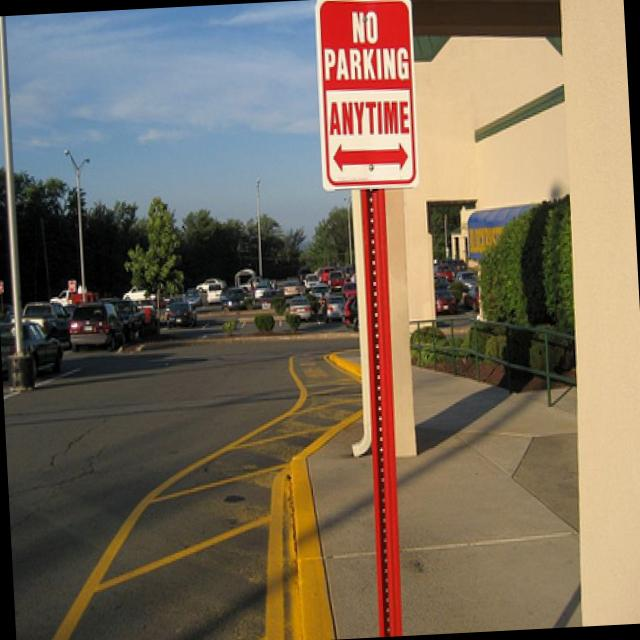Vehicle: (0, 245, 485, 351), (0, 316, 65, 383), (68, 300, 114, 358), (22, 298, 73, 344), (112, 301, 146, 344), (164, 298, 198, 330), (220, 286, 248, 310), (326, 292, 348, 320), (234, 268, 256, 292), (326, 269, 346, 294), (206, 282, 224, 306), (196, 278, 226, 291), (260, 290, 278, 310), (185, 288, 202, 306), (283, 276, 301, 286)
